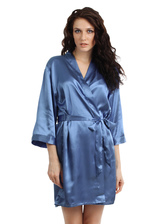clothoes: (33, 50, 126, 207)
